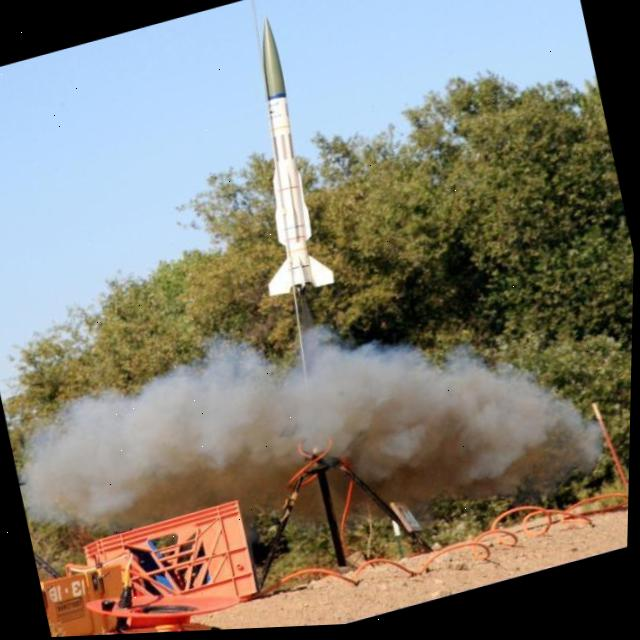missile: (202, 0, 381, 316)
